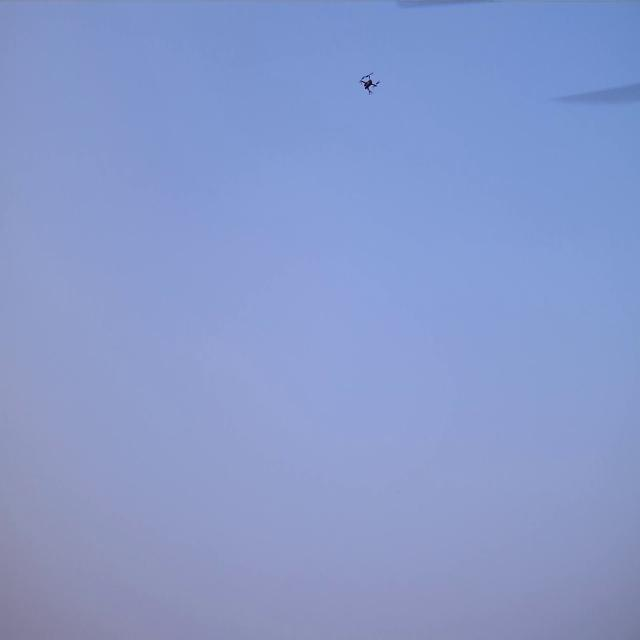UAV: (361, 74, 378, 94)
